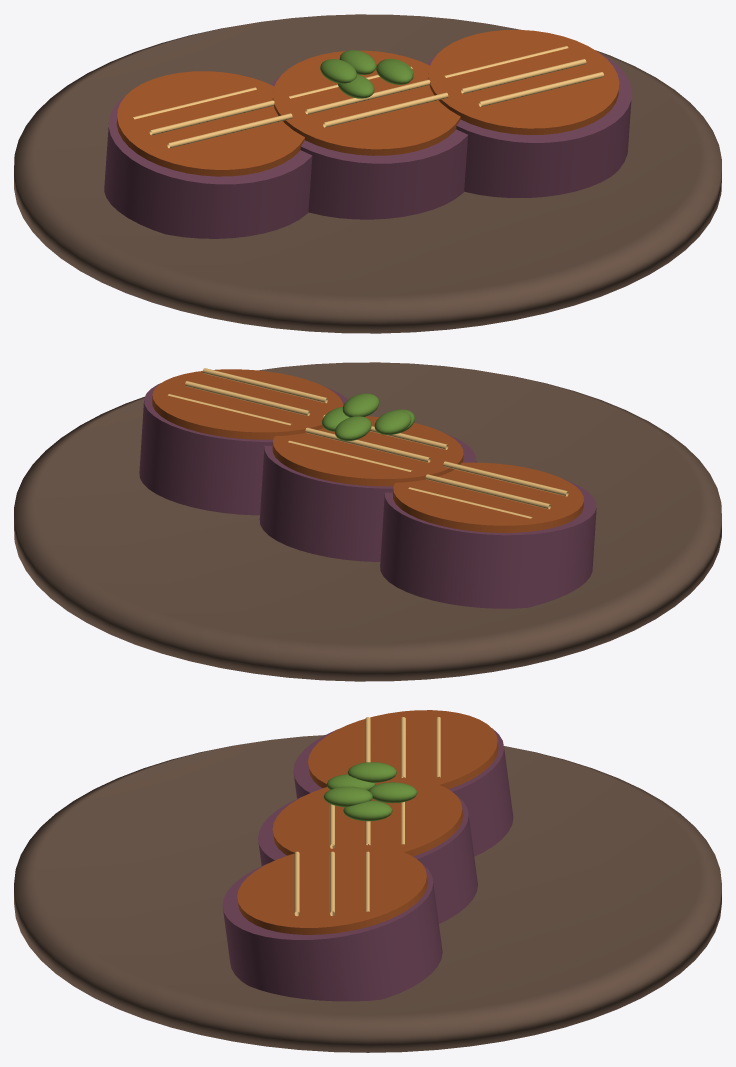
File: 13-eggplant.glb
The picture shows the model from 3 angles, top to bottom: view 1: azimuth 30°, elevation 25°; view 2: azimuth 150°, elevation 25°; view 3: azimuth 270°, elevation 25°; orthographic projection.
Parts seen in each view (by area): view 1: 된장 가지구이; view 2: 된장 가지구이; view 3: 된장 가지구이.
Part boxes in pixels (bbox=[...]): 된장 가지구이: bbox=[14, 14, 721, 333]; 된장 가지구이: bbox=[14, 362, 721, 681]; 된장 가지구이: bbox=[14, 710, 721, 1052].
Size of the model in its own units: 2 by 0.451 by 2.
